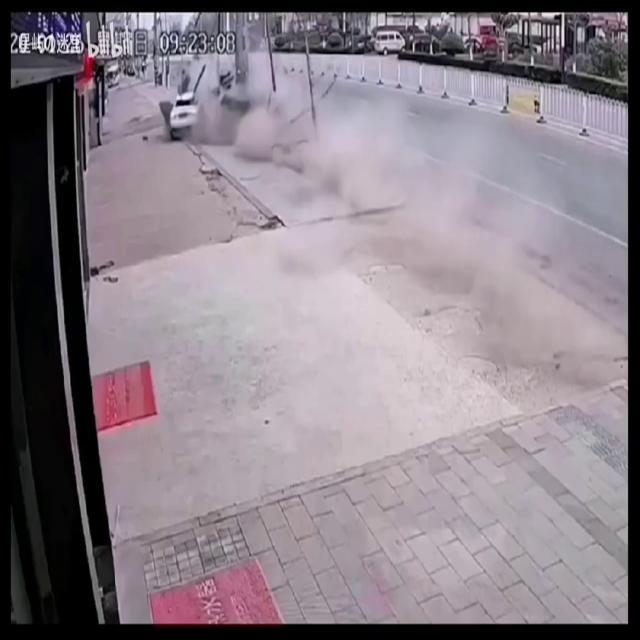single accident: (137, 67, 308, 159)
